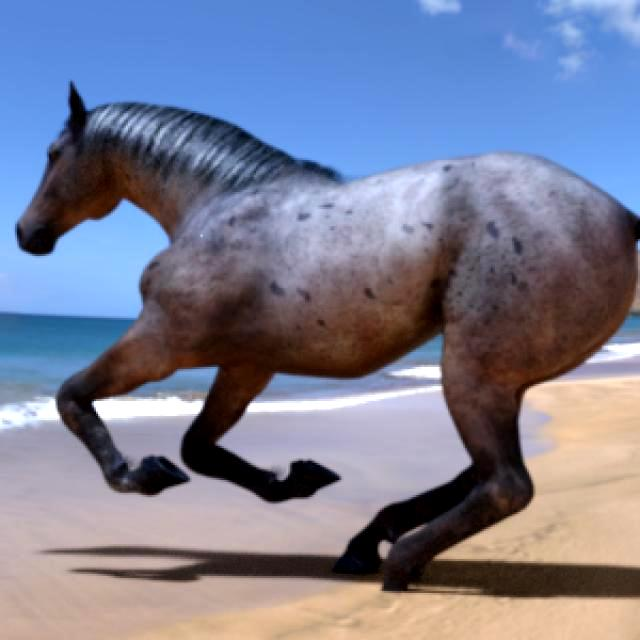horse: (18, 85, 640, 589)
